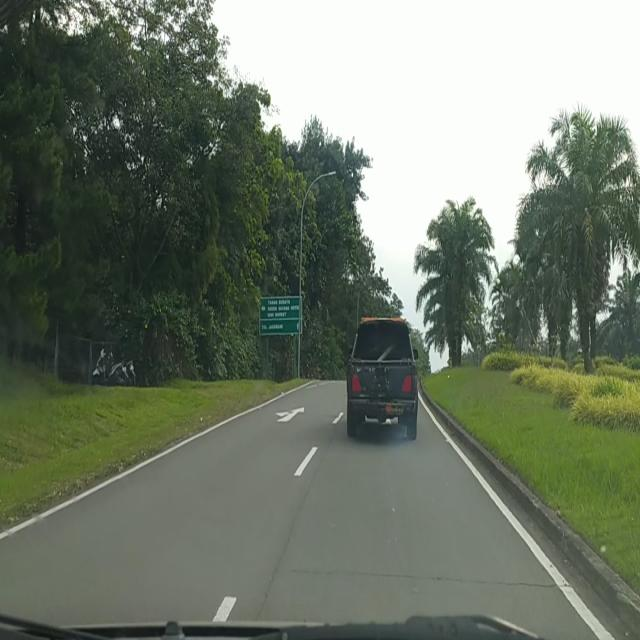Sewer Cover: (278, 563, 568, 591)
